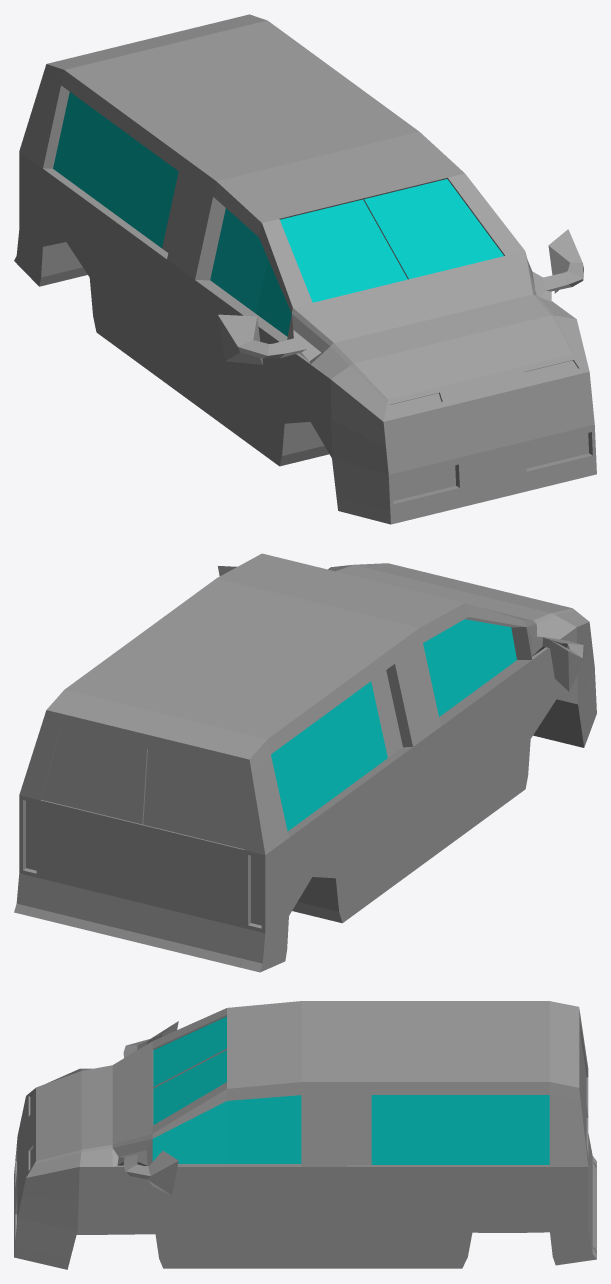
Rendered from Furgoneta.fbx.
The picture shows the model from 3 angles, top to bottom: view 1: azimuth 30°, elevation 25°; view 2: azimuth 150°, elevation 25°; view 3: azimuth 270°, elevation 25°; orthographic projection. The views are drawn at different scales.
Visible parts, largest first — view 1: Furgoneta; view 2: Furgoneta; view 3: Furgoneta.
Part boxes in pixels (box(x1,y1,x2,y2)): Furgoneta: box(14, 14, 596, 524); Furgoneta: box(14, 553, 596, 972); Furgoneta: box(14, 1001, 596, 1269).
Size of the model in its own units: 1.58 by 0.9456 by 2.79.
